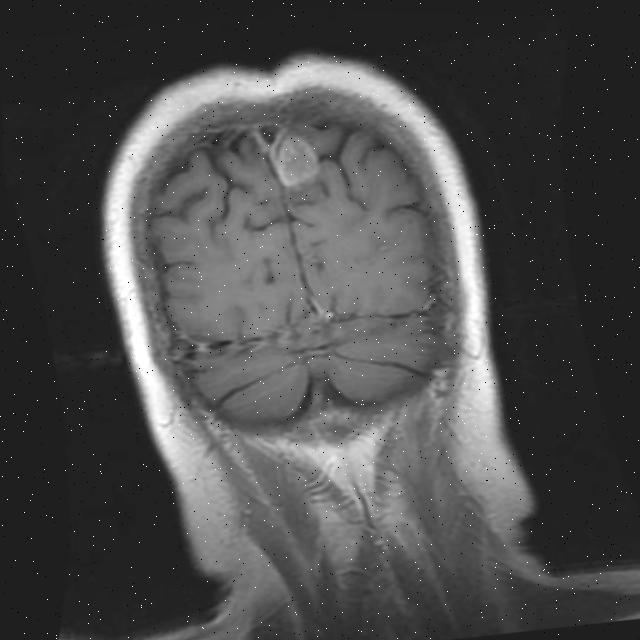Meningioma: (262, 125, 326, 194)
